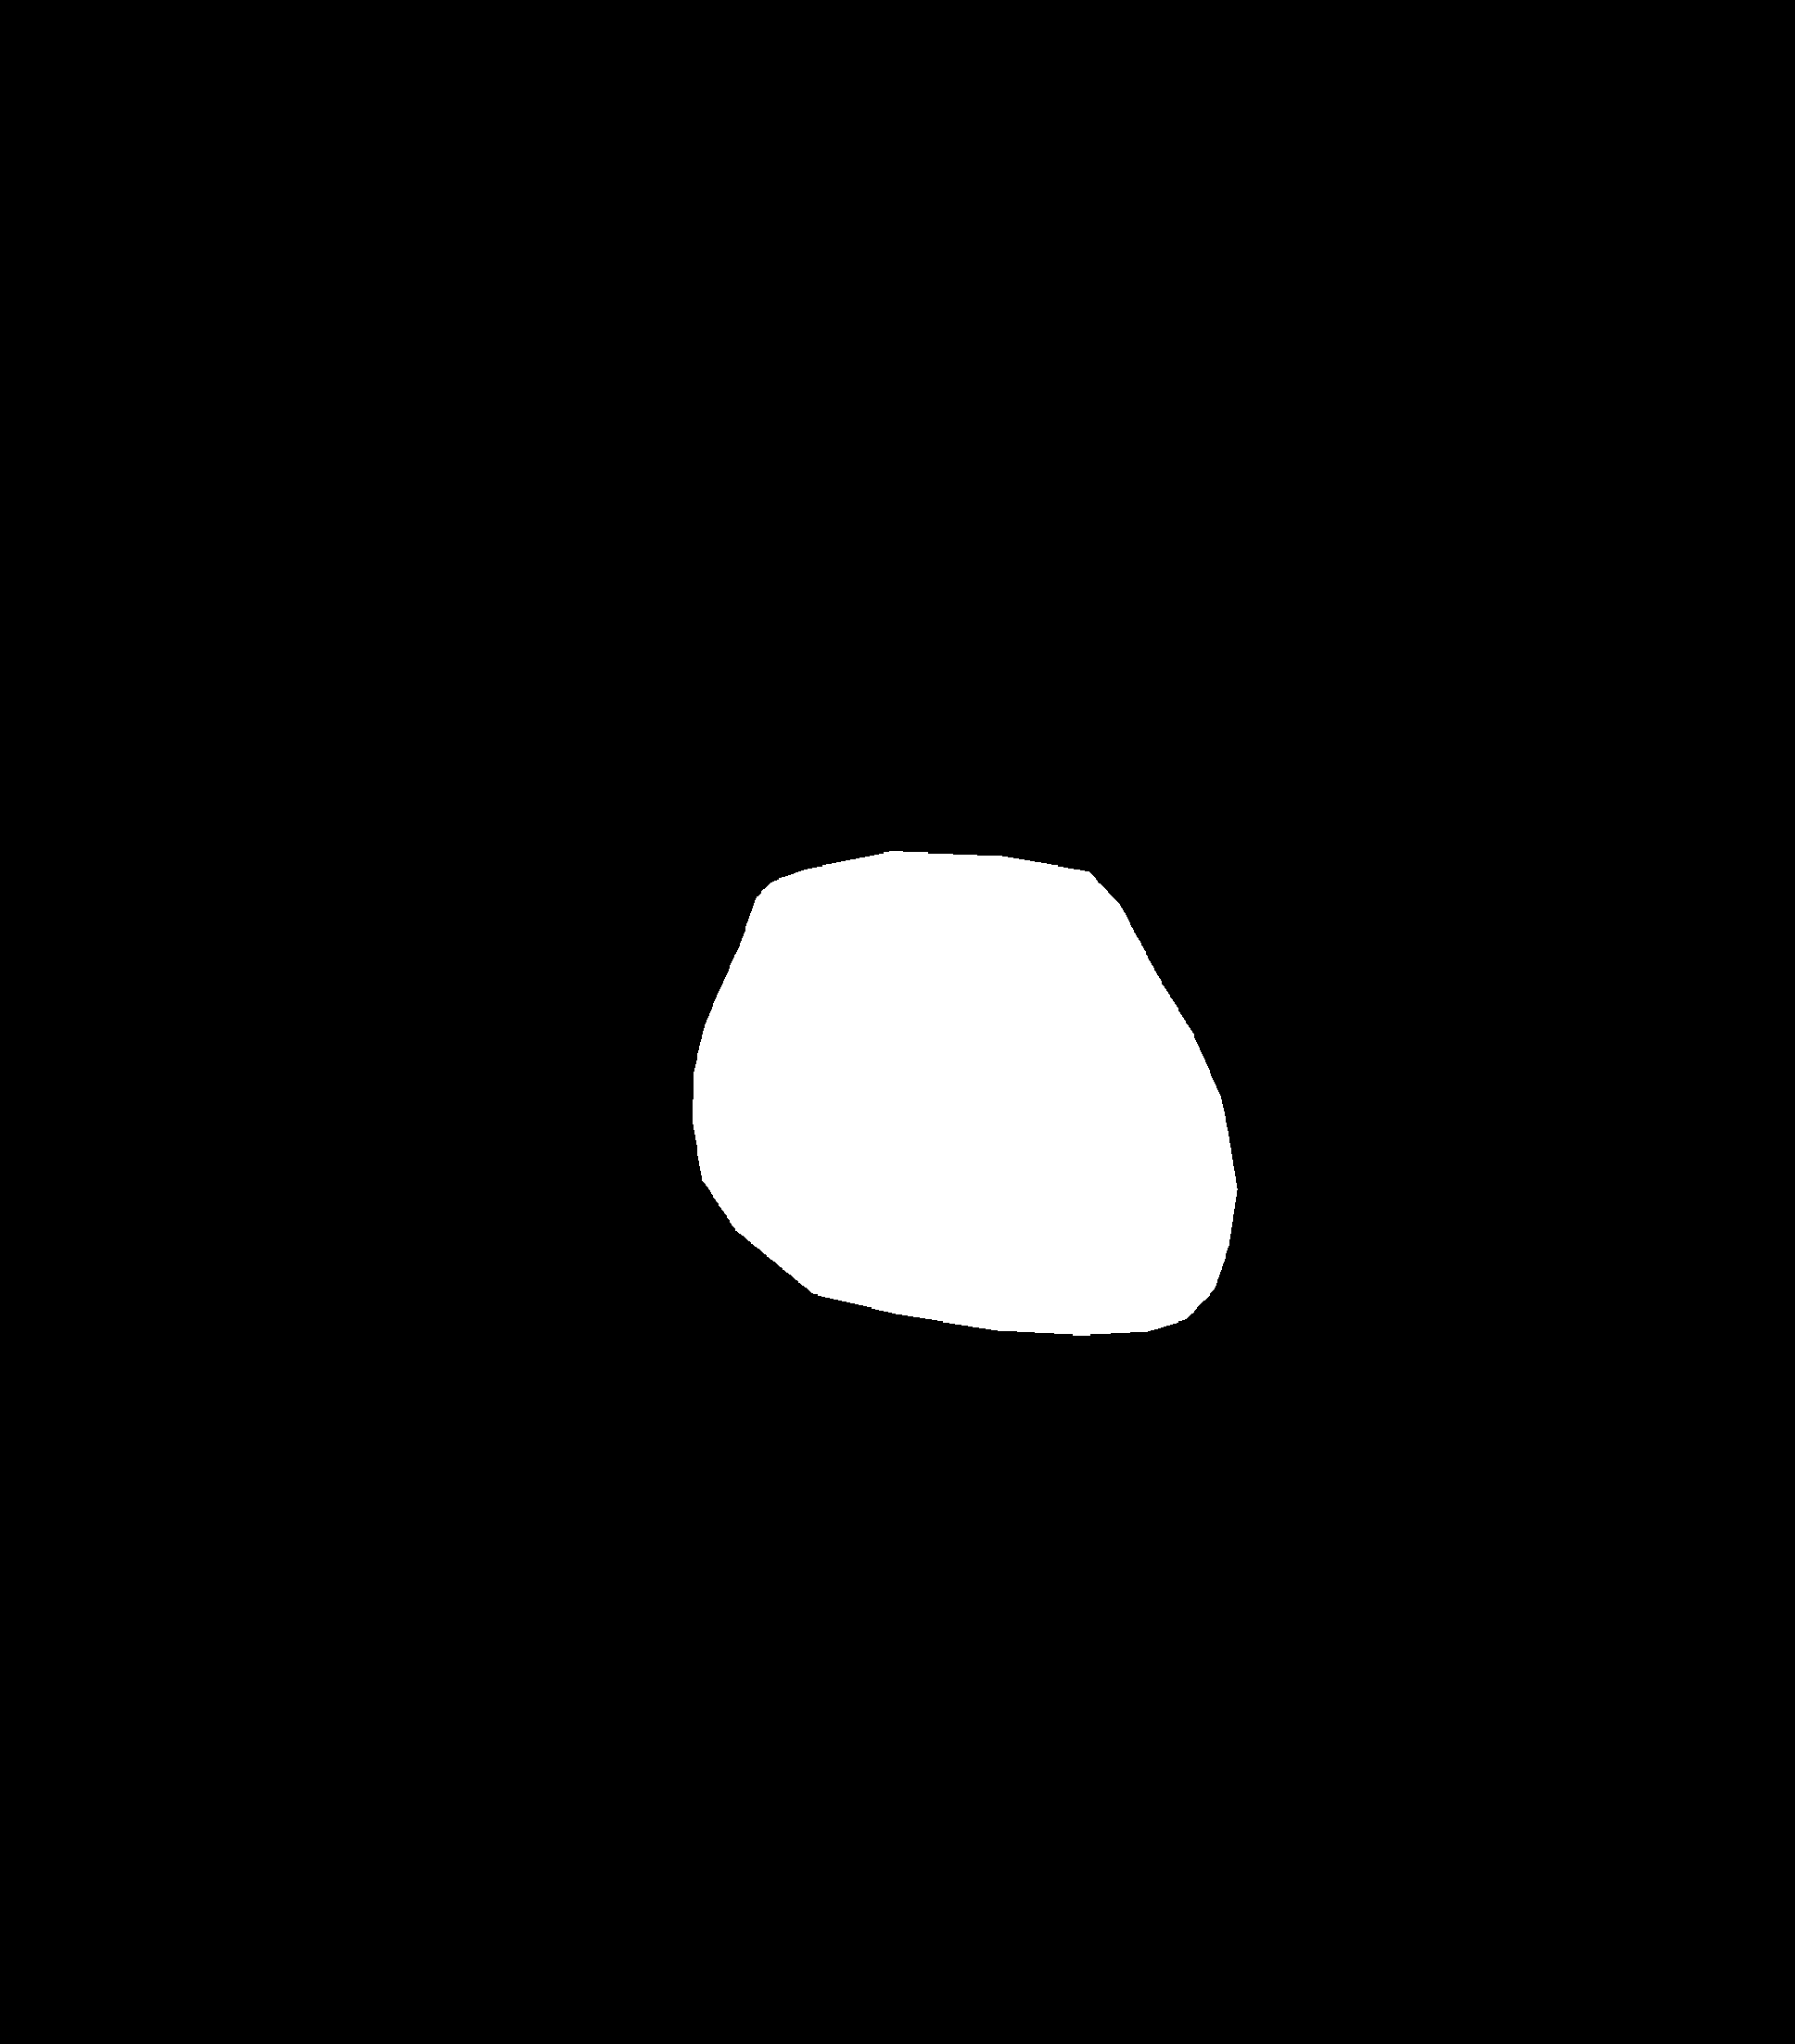heart: (695, 925, 1235, 1394)
left_lung: (247, 398, 768, 1387)
right_lung: (973, 410, 1451, 1437)
